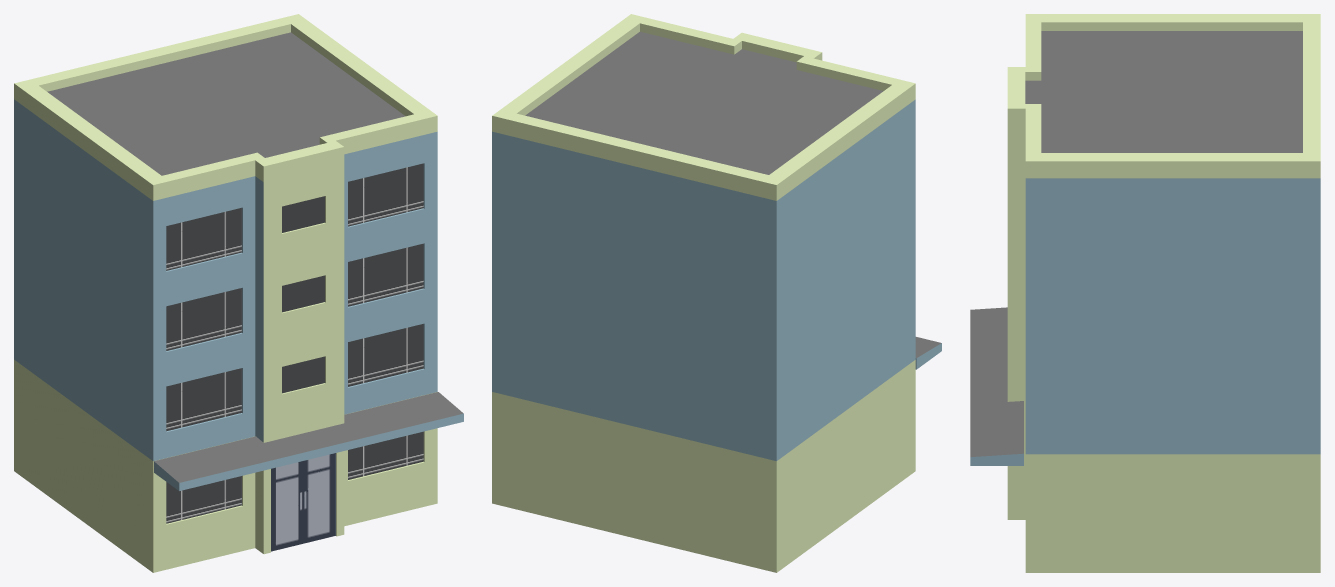
File: Building_Blue.fbx
3 renders of one model, left to right at view 1: azimuth 30°, elevation 25°; view 2: azimuth 150°, elevation 25°; view 3: azimuth 270°, elevation 25°, orthographic. The views are drawn at different scales.
Parts seen in each view (by area): view 1: Building_Blue; view 2: Building_Blue; view 3: Building_Blue.
Part boxes in pixels (x1=…): Building_Blue: x1=14, y1=14, x2=463, y2=572; Building_Blue: x1=492, y1=14, x2=941, y2=572; Building_Blue: x1=970, y1=14, x2=1320, y2=572.
Bounding box in the file's own units: 39 × 50.79 × 39.2.
Materials: 1 (1 with a texture image).
